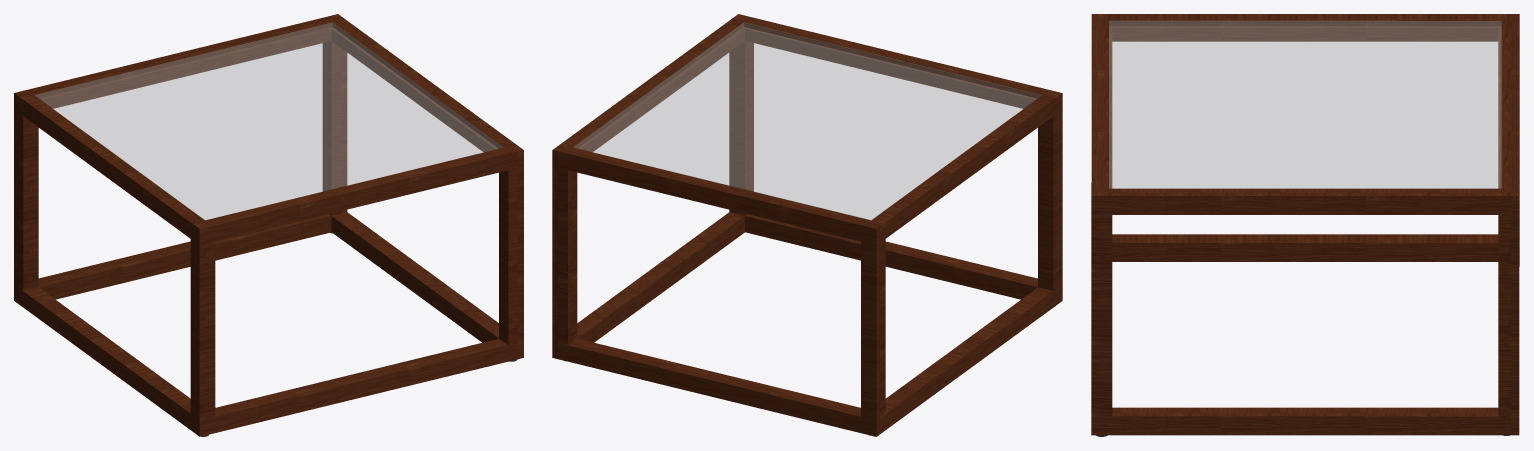
Rendered from model-gelap.glb.
The picture shows the model from 3 angles, left to right: view 1: azimuth 30°, elevation 25°; view 2: azimuth 150°, elevation 25°; view 3: azimuth 270°, elevation 25°; orthographic projection. The views are drawn at different scales.
Visible parts, largest first — view 1: C-skp28FD; view 2: C-skp28FD; view 3: C-skp28FD.
Boxes of the visible parts, box(x1,y1,x2,y2) form: C-skp28FD: box(14, 14, 523, 436); C-skp28FD: box(552, 14, 1062, 436); C-skp28FD: box(1091, 14, 1519, 436).
Bounding box in the file's own units: 0.6332 × 0.3939 × 0.6289.
3 materials, 1 textured.
